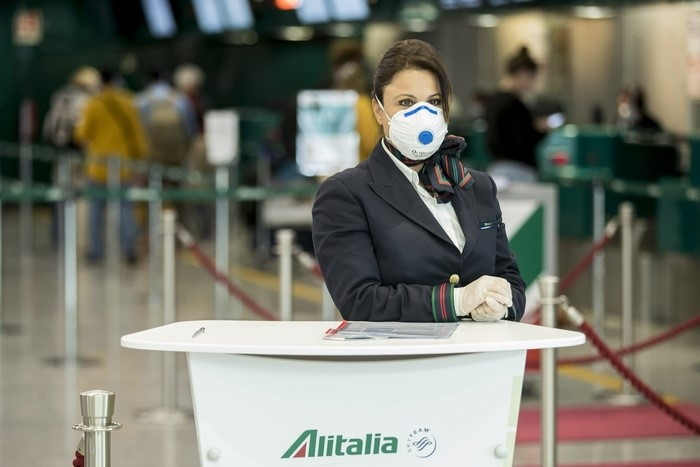face_with_mask: (371, 37, 455, 164)
